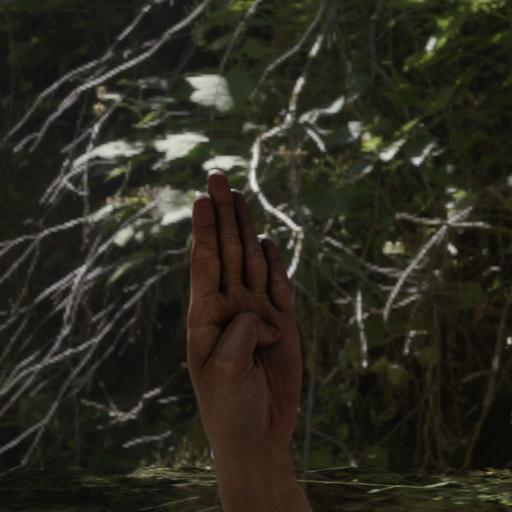B: (161, 170, 340, 504)
